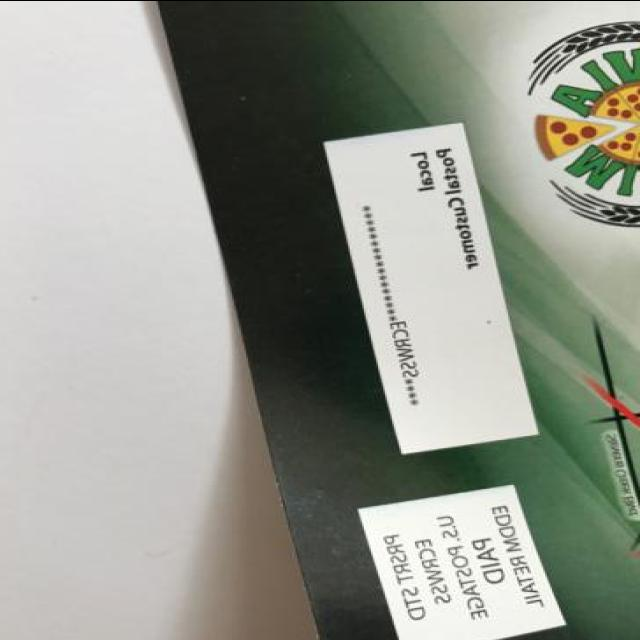kertas: (153, 0, 640, 640)
